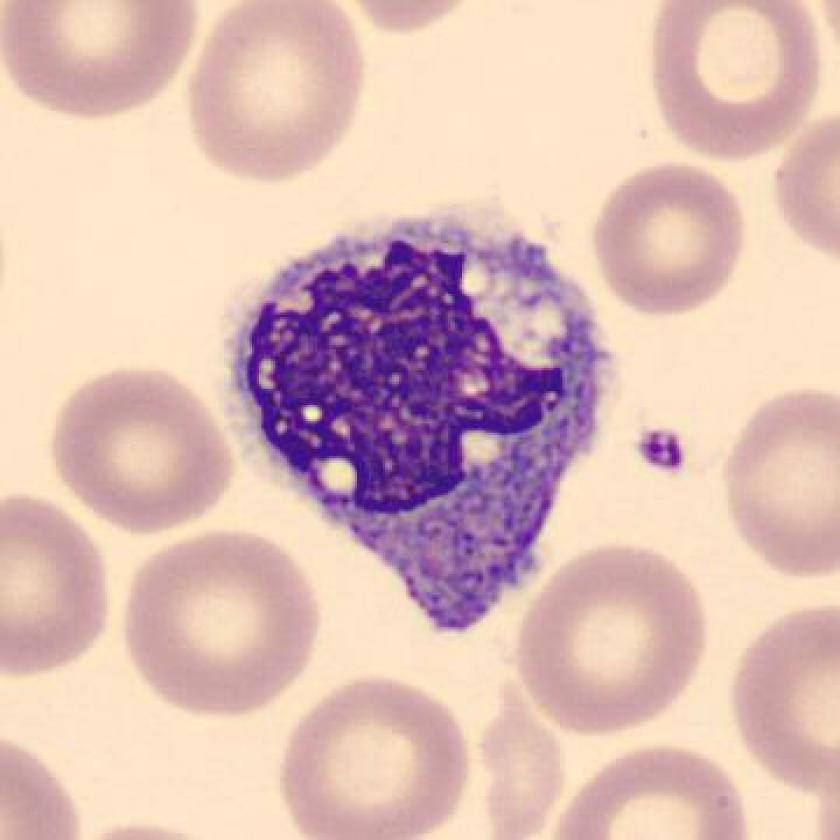monocyte: (204, 195, 640, 656)
